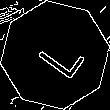L_NW: (26, 27, 84, 83)
